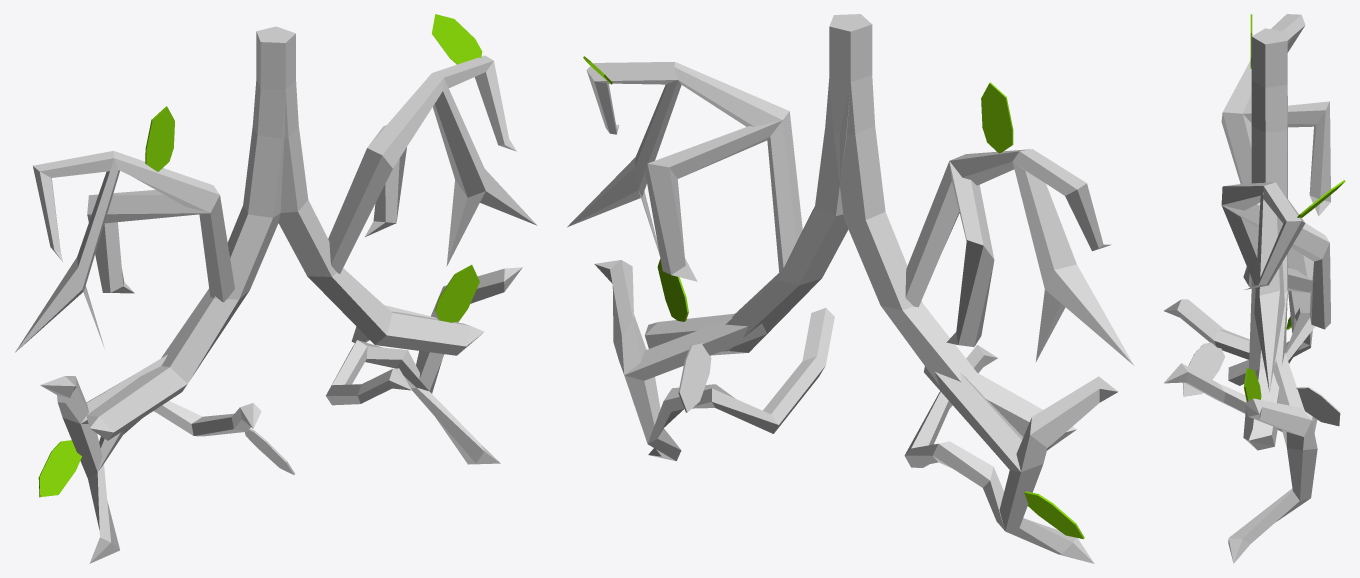
File: Roots.glb
3 views of the same model, side by side, from view 1: azimuth 30°, elevation 25°; view 2: azimuth 150°, elevation 25°; view 3: azimuth 270°, elevation 25° (orthographic). The views are drawn at different scales.
Parts seen in each view (by area): view 1: Cube.002, Cube, Cube.001, Plane.005, Plane.004, Plane.001, Plane, Plane.003; view 2: Cube.002, Cube.001, Cube, Plane, Plane.002, Plane.004, Plane.005; view 3: Cube.002, Cube.001, Cube, Plane.003, Plane.002, Plane.005, Plane.001.
Boxes of the visible parts, x1,y1,x2,y2 form: Cube.002: (15,55,536,352); Cube: (86,26,484,440); Cube.001: (40,267,522,563); Plane.005: (435,264,479,322); Plane.004: (38,440,81,497); Plane.001: (432,14,482,64); Plane: (145,106,174,171); Plane.003: (244,428,294,474); Cube.002: (567,62,1133,365); Cube.001: (594,260,1118,563); Cube: (644,14,1076,449); Plane: (981,82,1013,153); Plane.002: (678,343,711,412); Plane.004: (1024,491,1084,539); Plane.005: (657,259,688,321); Cube.002: (1221,14,1330,391); Cube.001: (1164,248,1317,563); Cube: (1243,28,1287,450); Plane.003: (1183,342,1224,396); Plane.002: (1296,386,1340,426); Plane.005: (1244,368,1261,401); Plane.001: (1297,180,1345,217).
Size of the model in its own units: 0.5566 by 0.4712 by 0.1794.
